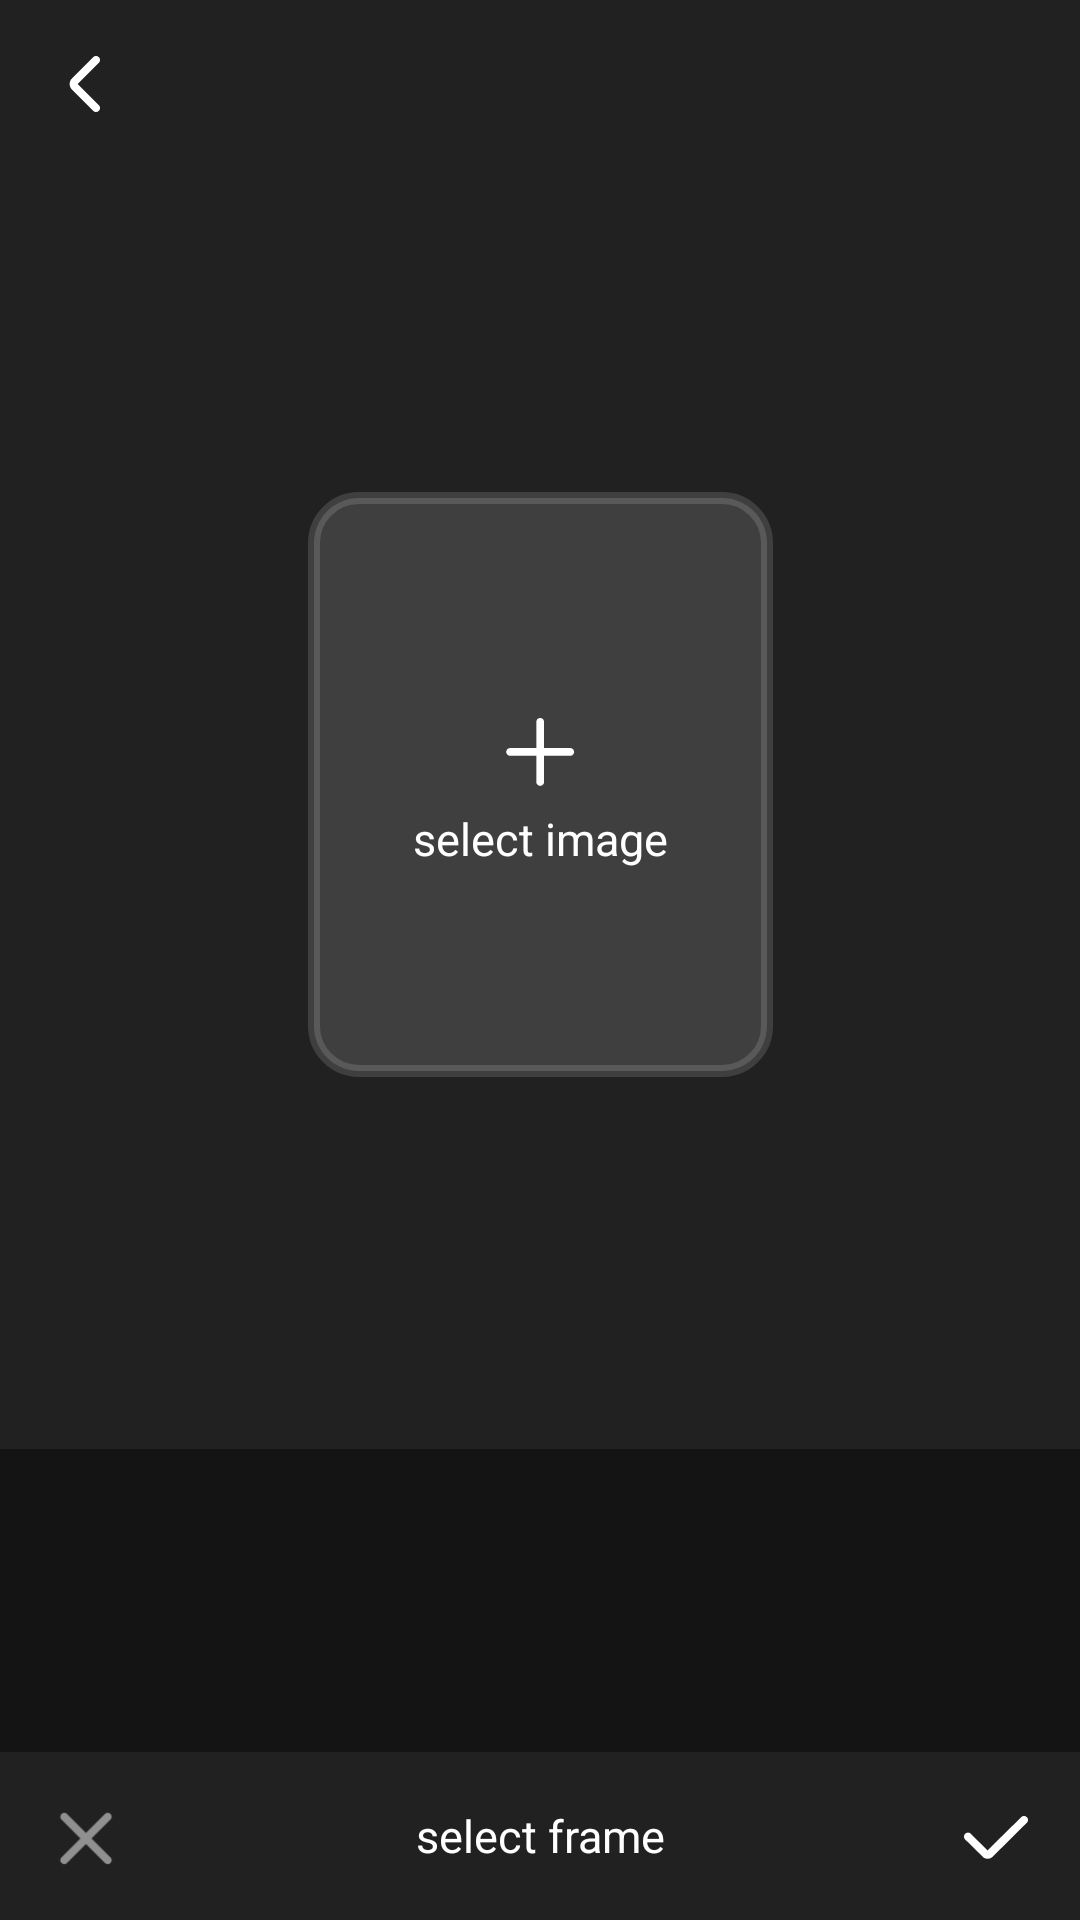

Screen size 1080×1920. Icon name, then its box in pixels as box(x1, y1, x2, y2):
back: box(69, 56, 100, 112)
true: box(964, 1816, 1028, 1859)
